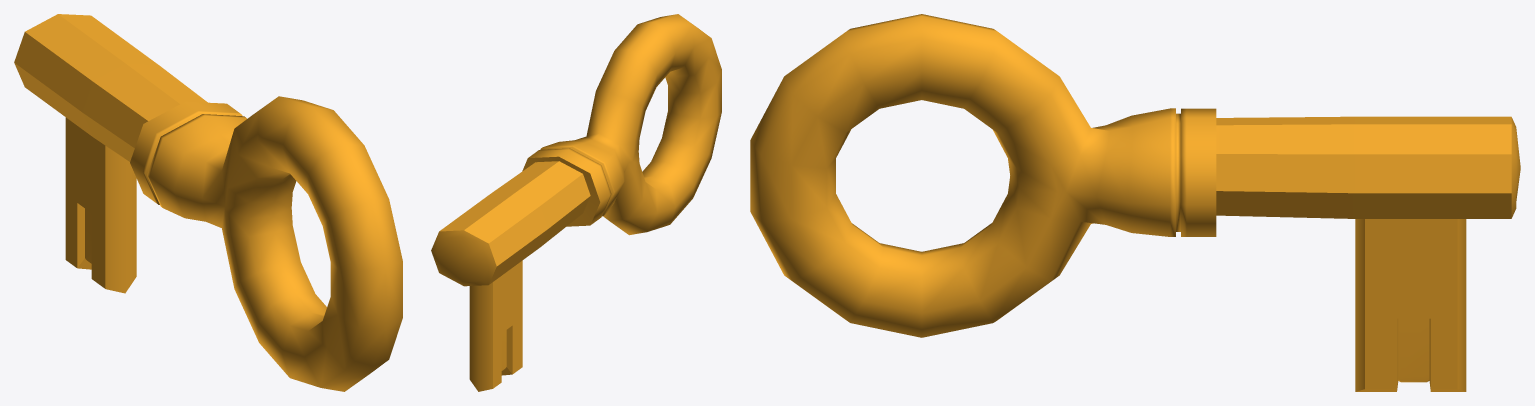
File: yaos.fbx
3 views of the same model, side by side, from view 1: azimuth 30°, elevation 25°; view 2: azimuth 150°, elevation 25°; view 3: azimuth 270°, elevation 25° (orthographic). The views are drawn at different scales.
Parts seen in each view (by area): view 1: yaoshi:polySurface1; view 2: yaoshi:polySurface1; view 3: yaoshi:polySurface1.
Boxes of the visible parts, bbox=[...] form: yaoshi:polySurface1: bbox=[14, 14, 402, 391]; yaoshi:polySurface1: bbox=[431, 14, 721, 391]; yaoshi:polySurface1: bbox=[750, 14, 1520, 391].
Size of the model in its own units: 5.46 by 15.18 by 28.21.
